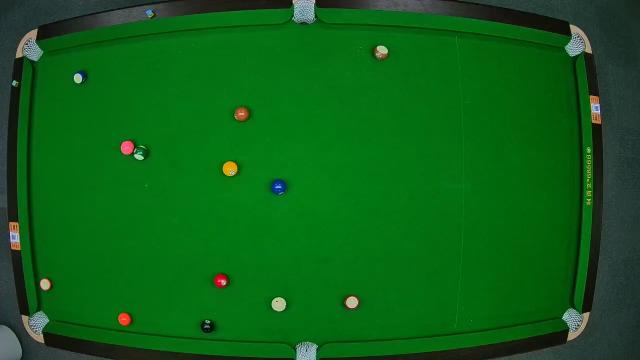bag1: (21, 40, 41, 61)
bag2: (292, 1, 316, 25)
bag3: (568, 35, 588, 56)
bag4: (29, 310, 47, 334)
bag5: (295, 340, 317, 360)
bag6: (562, 310, 584, 332)
ball0: (270, 296, 288, 312)
ball1: (222, 161, 238, 177)
ball10: (73, 71, 87, 85)
ball11: (344, 294, 360, 310)
ball12: (38, 278, 52, 292)
ball14: (132, 145, 148, 161)
ball15: (374, 46, 388, 61)
ball2: (270, 178, 286, 196)
ball3: (214, 274, 228, 288)
ball4: (120, 140, 134, 156)
ball5: (118, 310, 130, 326)
ball7: (234, 106, 248, 121)
ball8: (200, 318, 216, 334)
